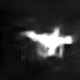plane: (18, 24, 78, 60)
